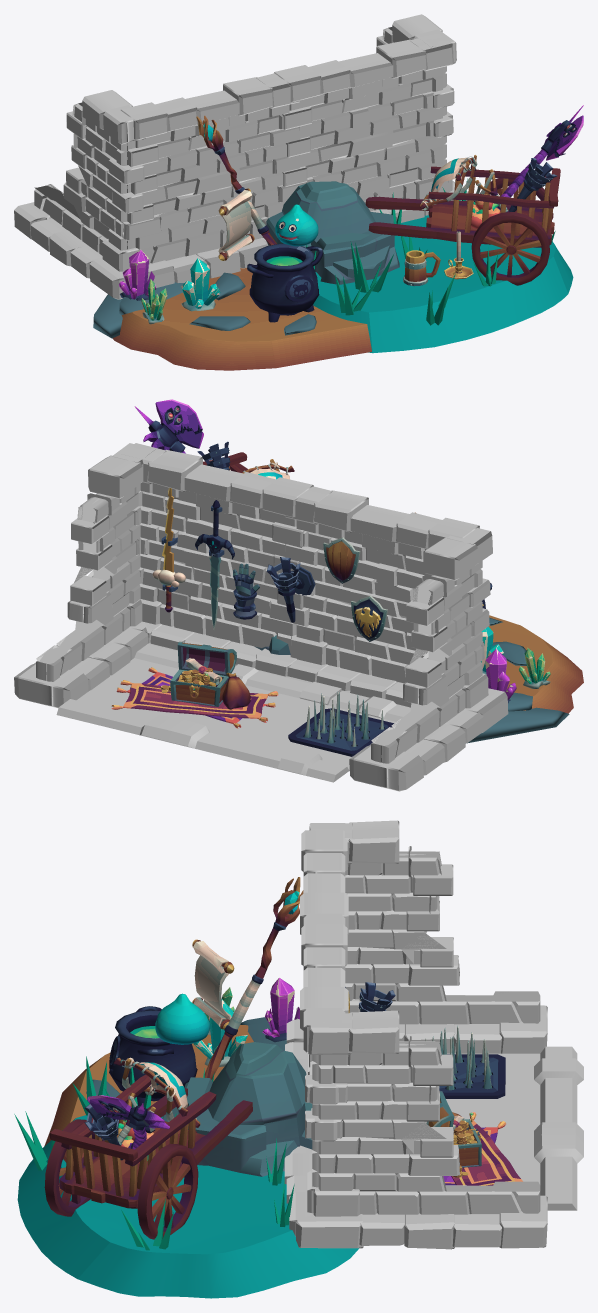
File: DisplayedNicely.fbx
3 views of the same model, one above another, from view 1: azimuth 30°, elevation 25°; view 2: azimuth 150°, elevation 25°; view 3: azimuth 270°, elevation 25° (orthographic). The views are drawn at different scales.
Parts seen in each view (by area): view 1: pCube364, pCube363, pPlane4, pCube370, pPlane3, HandCart, pCube37, Cauldron, pCube371, ScrollOpen, MimicAxe, BlueQuartz (+15 smaller); view 2: pCube363, pCube364, pCube370, pCube371, pPlane2, pPlane3, RedRug, MimicAxe, SpikeTrap, pCube376, Spikes, WallTorch (+13 smaller); view 3: pCube371, pPlane4, pCube370, HandCart, pPlane2, pCube37, pCube363, pCube364, Cauldron, WizardStaff, pPlane3, ScrollOpen (+13 smaller).
Boxes of the visible parts, x1,y1,x2,y2 form: pCube364: [120, 73, 300, 287]; pCube363: [274, 33, 466, 222]; pPlane4: [313, 215, 573, 353]; pCube370: [14, 90, 145, 299]; pPlane3: [112, 268, 371, 370]; HandCart: [365, 166, 560, 285]; pCube37: [266, 181, 399, 284]; Cauldron: [247, 244, 322, 322]; pCube371: [376, 14, 468, 200]; ScrollOpen: [218, 188, 254, 260]; MimicAxe: [494, 105, 583, 210]; BlueQuartz: [181, 258, 220, 311]; pCube363: [121, 443, 313, 676]; pCube364: [285, 486, 484, 707]; pCube370: [349, 528, 508, 791]; pCube371: [14, 443, 155, 708]; pPlane2: [56, 642, 410, 782]; pPlane3: [488, 615, 583, 713]; RedRug: [111, 680, 278, 722]; MimicAxe: [134, 399, 203, 453]; SpikeTrap: [288, 708, 393, 756]; pCube376: [467, 707, 569, 743]; Spikes: [304, 691, 384, 746]; WallTorch: [266, 557, 315, 622]; pCube371: [296, 1010, 547, 1249]; pPlane4: [17, 1115, 358, 1298]; pCube370: [296, 820, 547, 1053]; HandCart: [44, 1074, 252, 1239]; pPlane2: [446, 1046, 583, 1210]; pCube37: [162, 1042, 312, 1176]; pCube363: [284, 924, 348, 1236]; pCube364: [285, 830, 348, 1074]; Cauldron: [109, 1006, 197, 1105]; WizardStaff: [204, 877, 303, 1079]; pPlane3: [44, 1025, 253, 1146]; ScrollOpen: [192, 939, 234, 1029].
Size of the model in its own units: 23.11 by 10 by 20.62.
